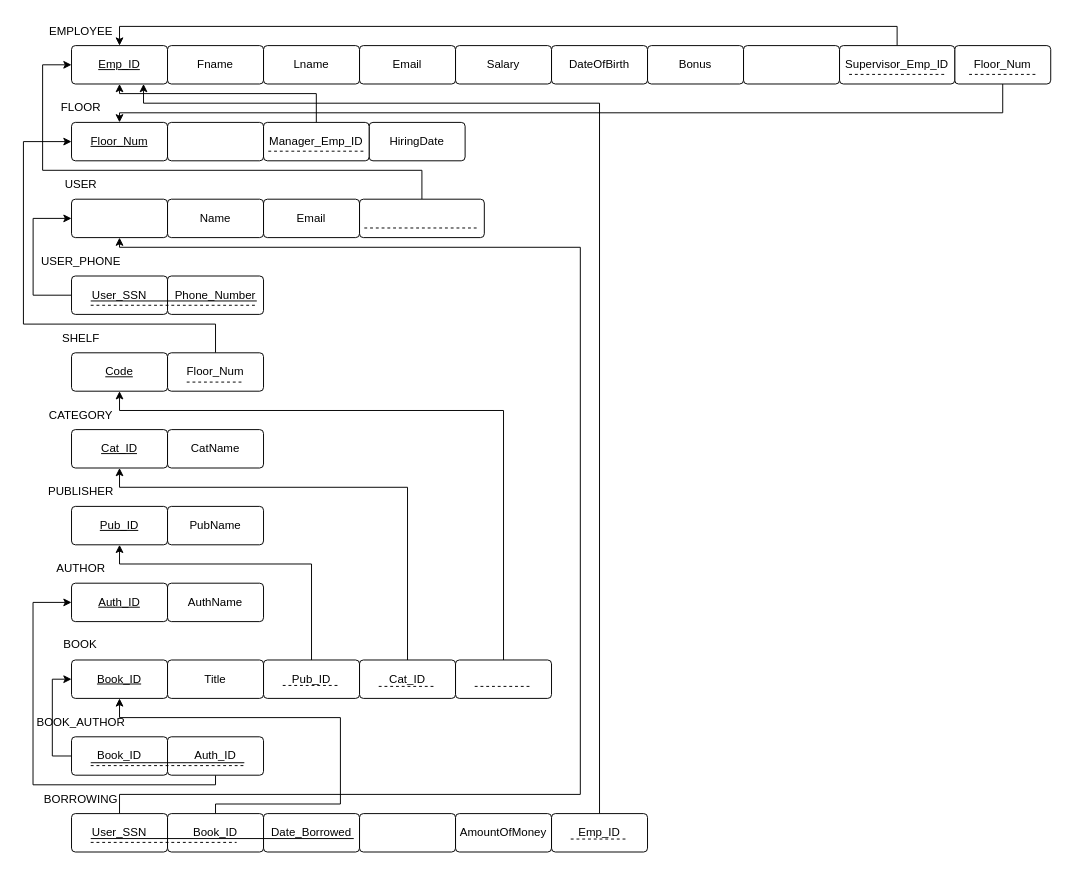
The diagram is 1068 pixels wide and 869 high, and some of its shapes have lost their labels. Each missing label, with the box of its shape:
Address: (743, 45, 840, 84)
DueToDate: (359, 813, 456, 852)
Num_Blocks: (167, 121, 264, 161)
Recorded_By_Emp_ID: (359, 198, 484, 238)
Shelf_Code: (455, 659, 552, 698)
SSN: (71, 198, 168, 238)
